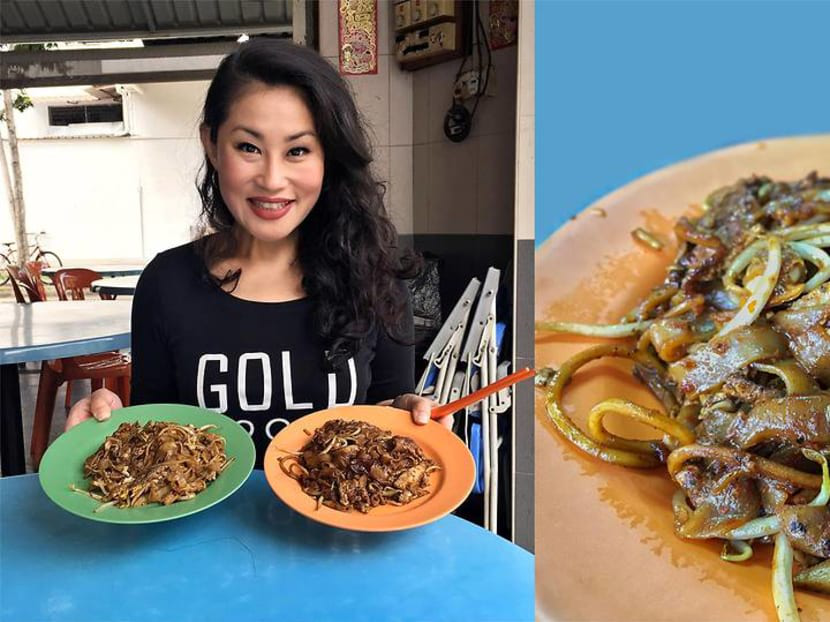Char Kway Teow: (604, 150, 829, 566), (280, 397, 440, 519), (82, 406, 230, 520)
